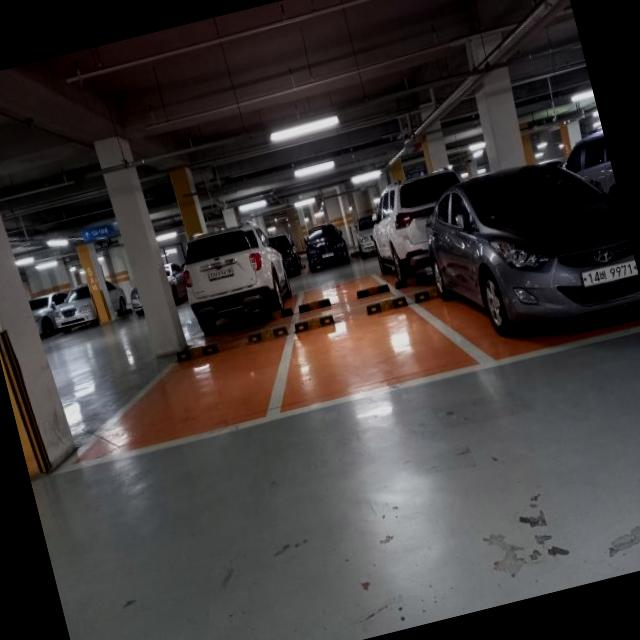car: (413, 143, 640, 353), (172, 216, 298, 340)
free: (80, 327, 299, 467), (284, 286, 459, 408)
